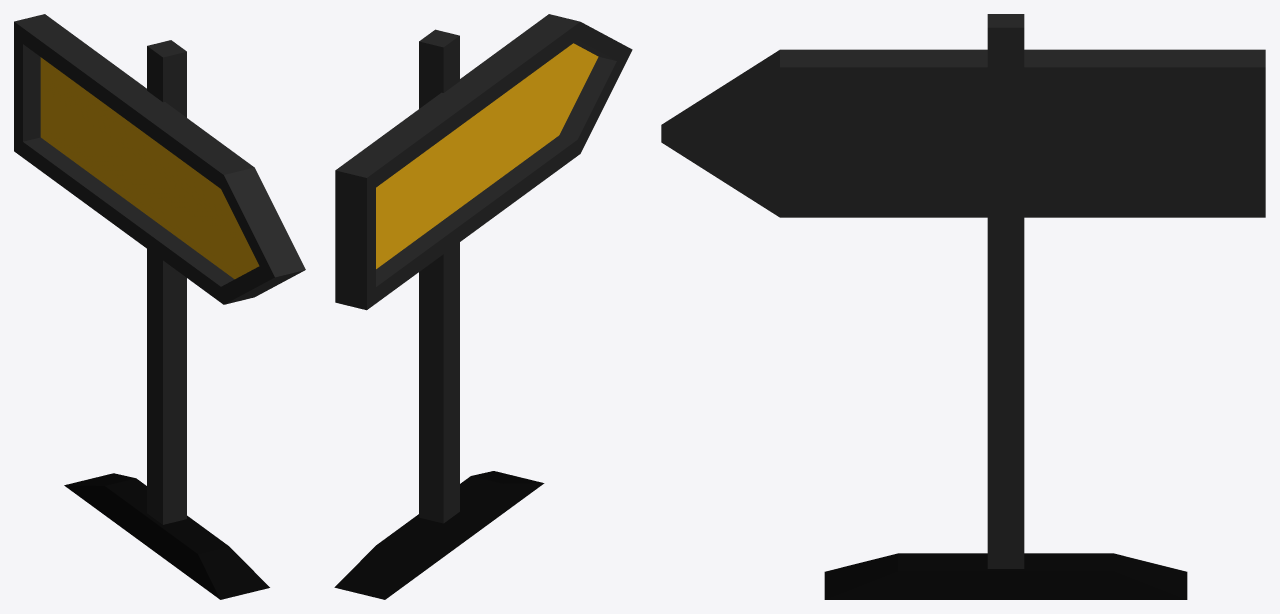
Rendered from letreroPequeño.fbx.
The picture shows the model from 3 angles, left to right: view 1: azimuth 30°, elevation 25°; view 2: azimuth 150°, elevation 25°; view 3: azimuth 270°, elevation 25°; orthographic projection. The views are drawn at different scales.
Parts seen in each view (by area): view 1: Sign-01; view 2: Sign-01; view 3: Sign-01.
Boxes of the visible parts, x1,y1,x2,y2 form: Sign-01: (14, 14, 305, 599); Sign-01: (334, 14, 632, 599); Sign-01: (661, 14, 1265, 599).
Size of the model in its own units: 12.01 by 85.13 by 82.53.
Materials: 1 (1 with a texture image).
